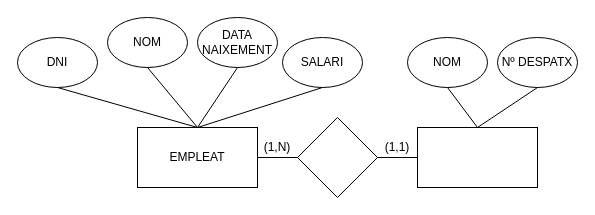
This 595x215 diagram has some shape labels left out. The shapes that lost their labels are listed below. From the top down, each one's centre as x and y in pixels, then its label:
At point (337, 157): "TREBALLA".
At point (477, 157): "DEPARTAMENT".
